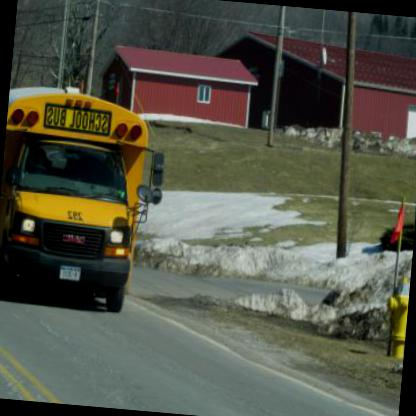bus: (0, 77, 172, 317)
